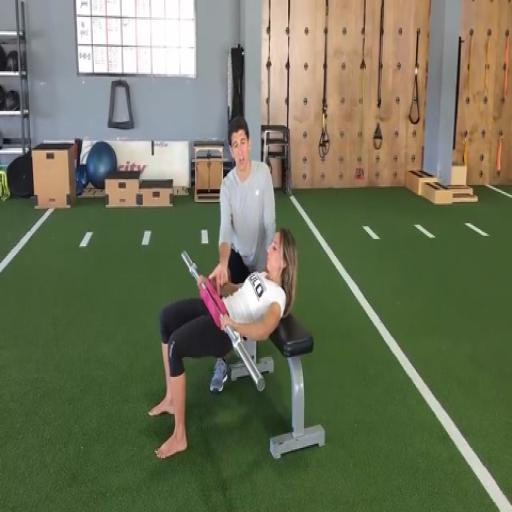exercise: (146, 226, 300, 462)
